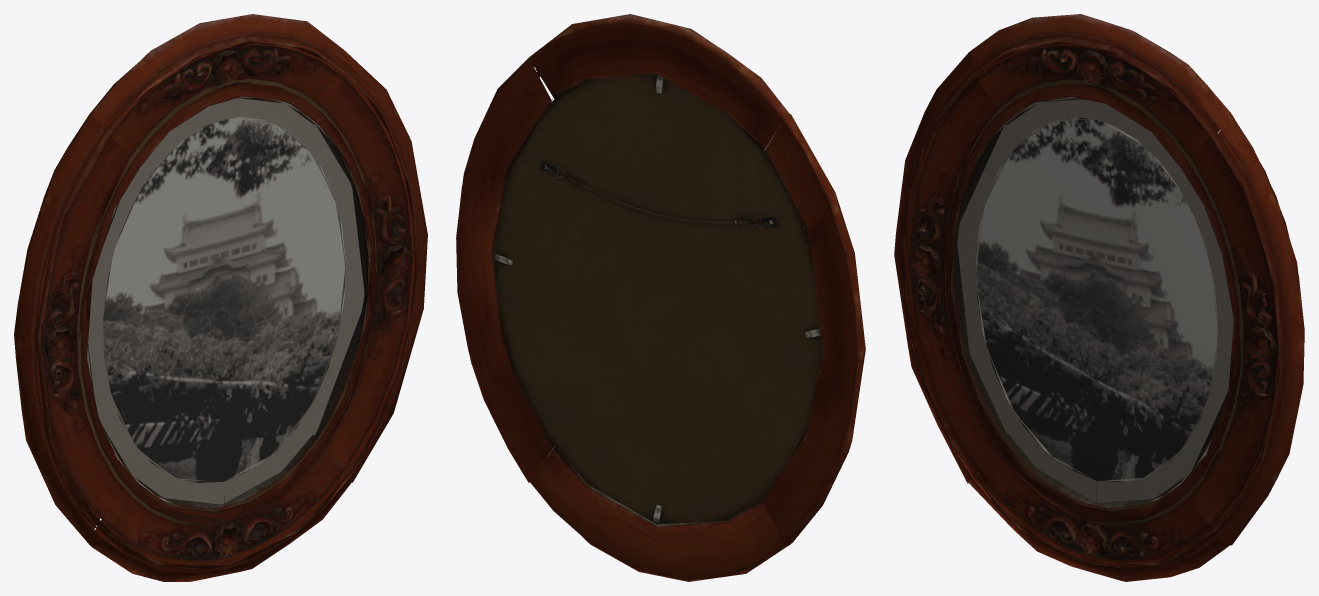
The model's file is hanging_picture_frame_03.glb.
3 renders of one model, left to right at view 1: azimuth 30°, elevation 25°; view 2: azimuth 150°, elevation 25°; view 3: azimuth 330°, elevation 25°, orthographic.
Visible parts, largest first — view 1: hanging_picture_frame_03, hanging_picture_frame_03_glass; view 2: hanging_picture_frame_03; view 3: hanging_picture_frame_03, hanging_picture_frame_03_glass.
Part boxes in pixels (x1,y1,x2,y2): hanging_picture_frame_03: (14, 14, 427, 581); hanging_picture_frame_03_glass: (87, 97, 366, 506); hanging_picture_frame_03: (456, 14, 865, 581); hanging_picture_frame_03: (894, 14, 1304, 581); hanging_picture_frame_03_glass: (955, 97, 1233, 505).
Size of the model in its own units: 0.3874 by 0.5022 by 0.032.
3 materials, 2 textured.
